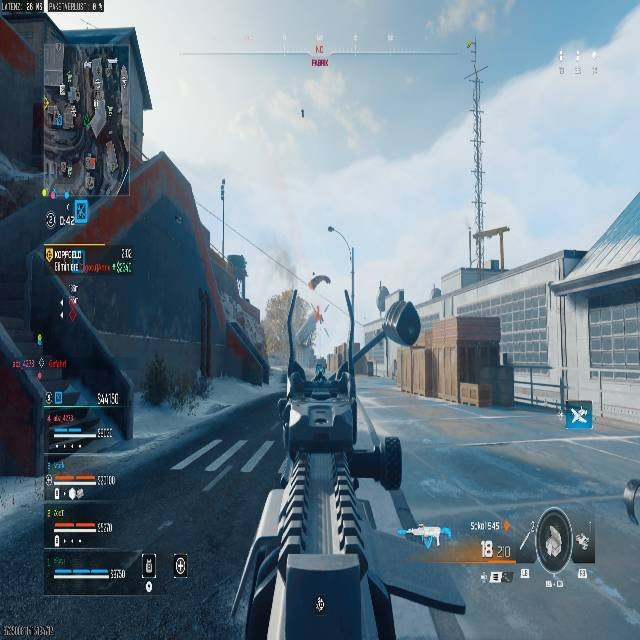player: (314, 358, 326, 383)
